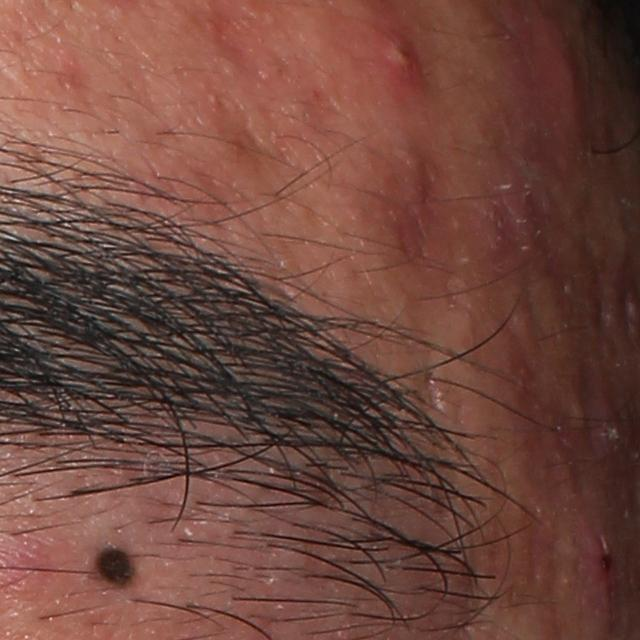nevus: (93, 541, 137, 590)
